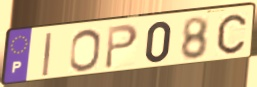0: (143, 20, 174, 65)
8: (179, 16, 209, 61)
C: (216, 12, 248, 56)
I: (41, 31, 54, 78)
O: (68, 27, 102, 73)
P: (103, 23, 140, 71)
